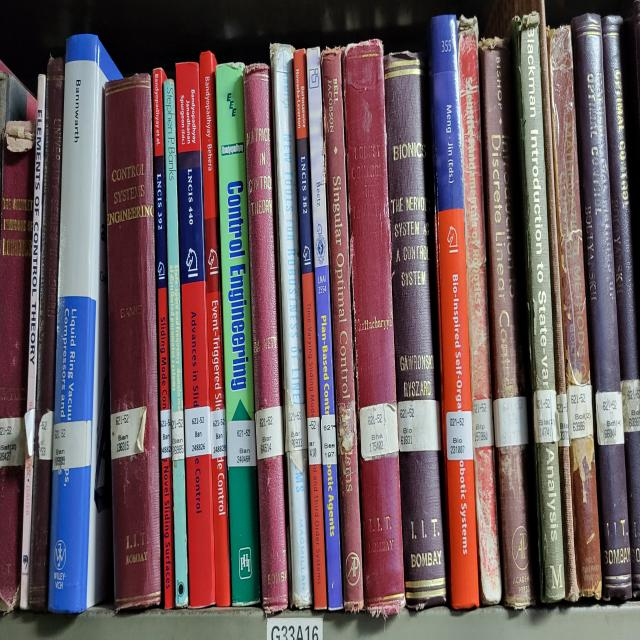Book: (48, 35, 120, 611), (342, 41, 405, 617), (571, 14, 632, 601), (384, 51, 446, 609), (479, 38, 536, 609), (510, 14, 565, 603), (485, 0, 566, 392), (548, 27, 601, 598), (105, 73, 161, 609), (429, 16, 479, 609), (458, 16, 501, 603), (244, 65, 289, 611), (215, 62, 260, 606), (321, 49, 364, 611), (270, 43, 312, 609), (601, 16, 640, 595), (176, 62, 215, 609), (306, 49, 342, 609), (29, 57, 65, 611), (294, 49, 328, 609), (200, 51, 231, 606), (0, 122, 35, 606), (20, 76, 46, 609), (164, 78, 189, 606), (152, 68, 174, 609), (560, 446, 579, 601)
Label: (398, 400, 441, 452), (360, 403, 399, 460), (52, 419, 91, 471), (111, 406, 146, 460), (494, 395, 529, 446), (595, 392, 624, 446), (255, 406, 284, 460), (568, 384, 594, 438), (228, 419, 256, 468), (185, 406, 211, 457), (0, 417, 26, 468), (534, 390, 558, 444), (446, 411, 472, 460), (285, 403, 308, 452), (472, 398, 494, 449), (621, 379, 640, 433), (338, 400, 355, 455), (210, 409, 226, 457), (321, 414, 336, 465), (556, 392, 570, 446), (39, 411, 54, 460), (171, 411, 185, 460), (308, 417, 321, 465), (160, 409, 171, 460), (24, 409, 35, 457)
